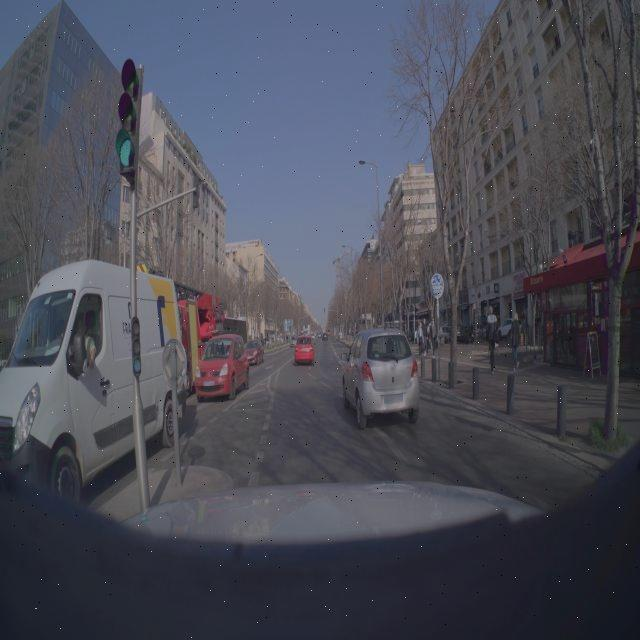Green: (89, 40, 162, 199)
